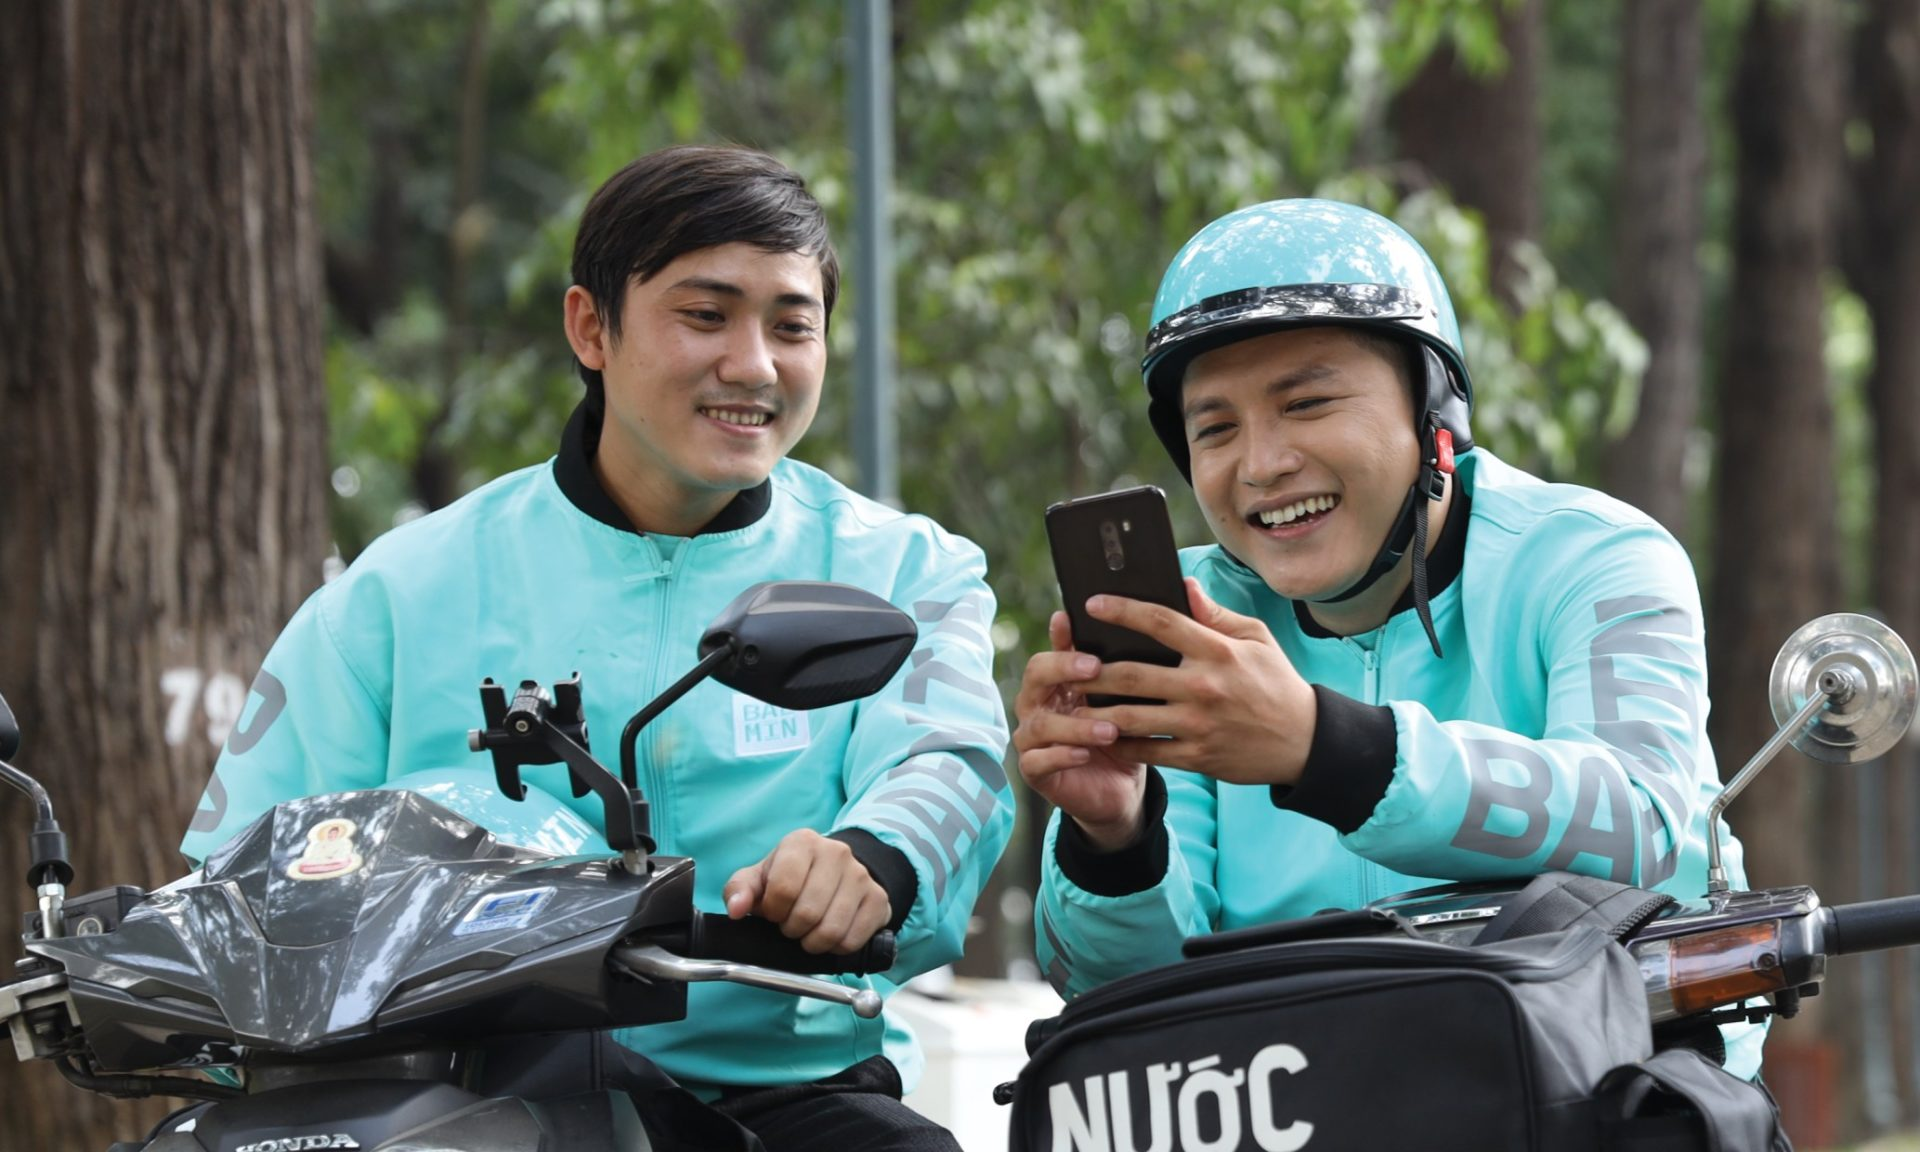su dung dien thoai: (1013, 200, 1474, 815)
